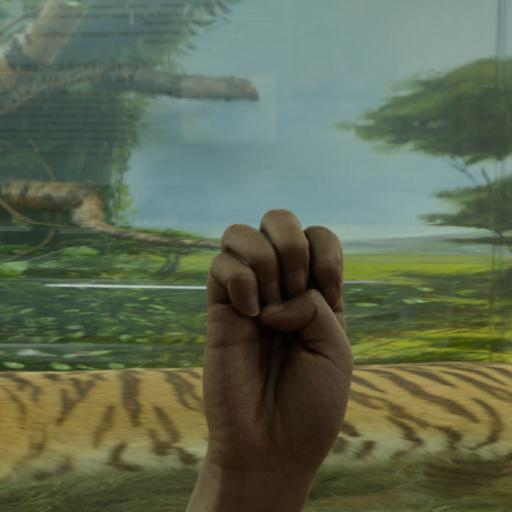E: (190, 202, 366, 497)
